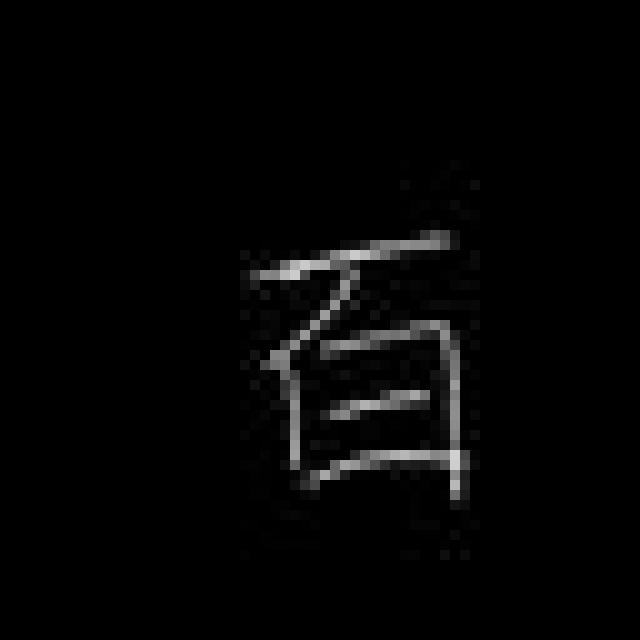100 -a hundred-: (235, 222, 475, 506)
